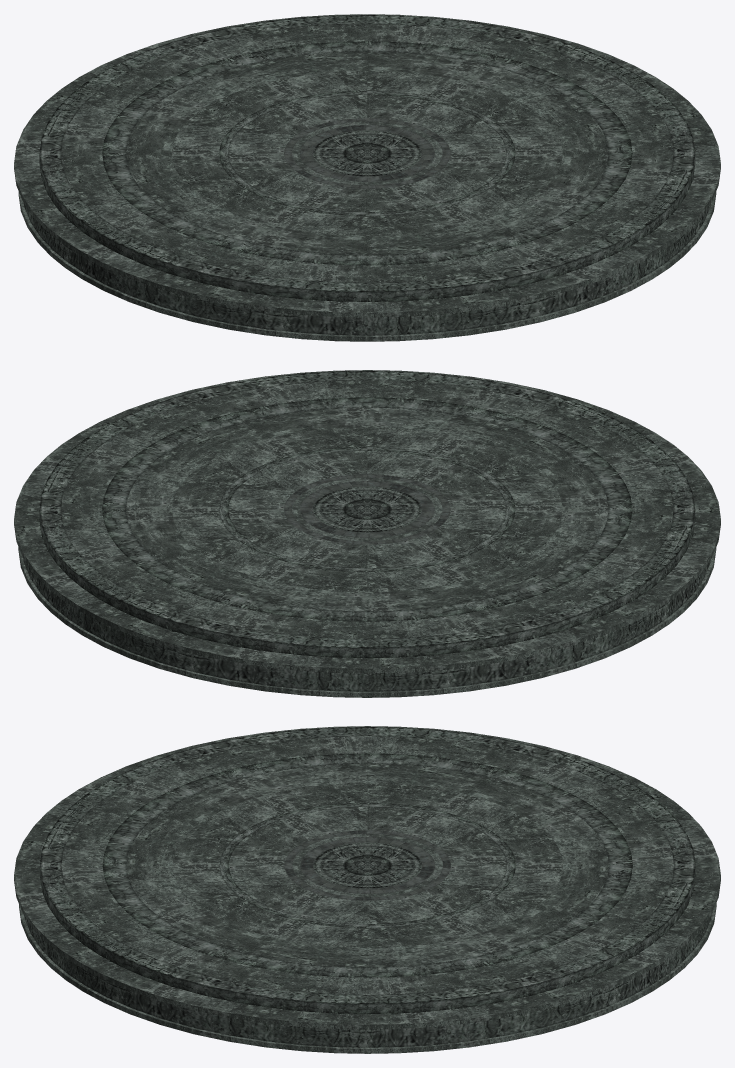
The model's file is mg_9_plate_4.fbx.
3 renders of one model, top to bottom at view 1: azimuth 30°, elevation 25°; view 2: azimuth 150°, elevation 25°; view 3: azimuth 270°, elevation 25°, orthographic.
Visible parts, largest first — view 1: mg_9_plate_4; view 2: mg_9_plate_4; view 3: mg_9_plate_4.
Boxes of the visible parts, x1,y1,x2,y2 form: mg_9_plate_4: (14,14,720,341); mg_9_plate_4: (14,370,720,697); mg_9_plate_4: (14,726,720,1053).
Size of the model in its own units: 2575 by 165 by 2575.
